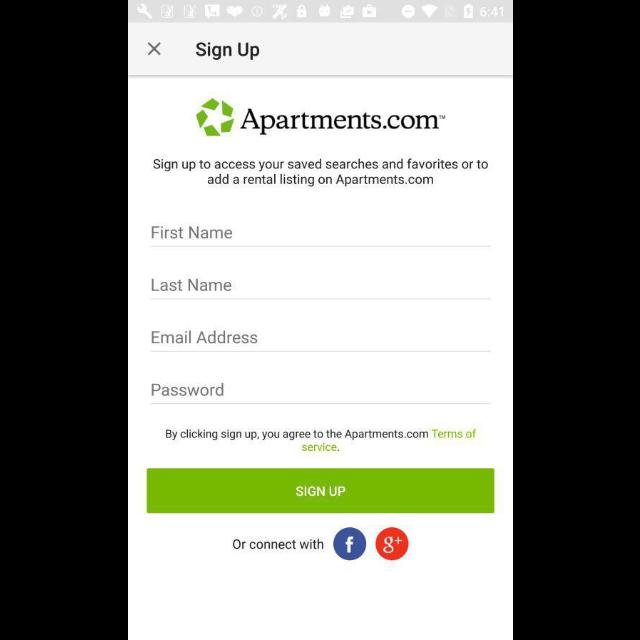icon: (332, 528, 366, 560), (375, 528, 407, 560), (148, 44, 160, 56)
image: (196, 99, 444, 137)
input: (150, 382, 490, 404), (150, 330, 490, 352), (150, 278, 490, 300), (151, 226, 491, 248)
text: (152, 158, 488, 188), (164, 429, 476, 451), (150, 330, 258, 344), (195, 42, 259, 60), (151, 278, 231, 292), (232, 538, 324, 550), (152, 383, 224, 397), (152, 227, 232, 239)
textbutton: (146, 468, 494, 514)
toolbar: (128, 24, 512, 76)
uppertaskbar: (128, 1, 512, 23)
